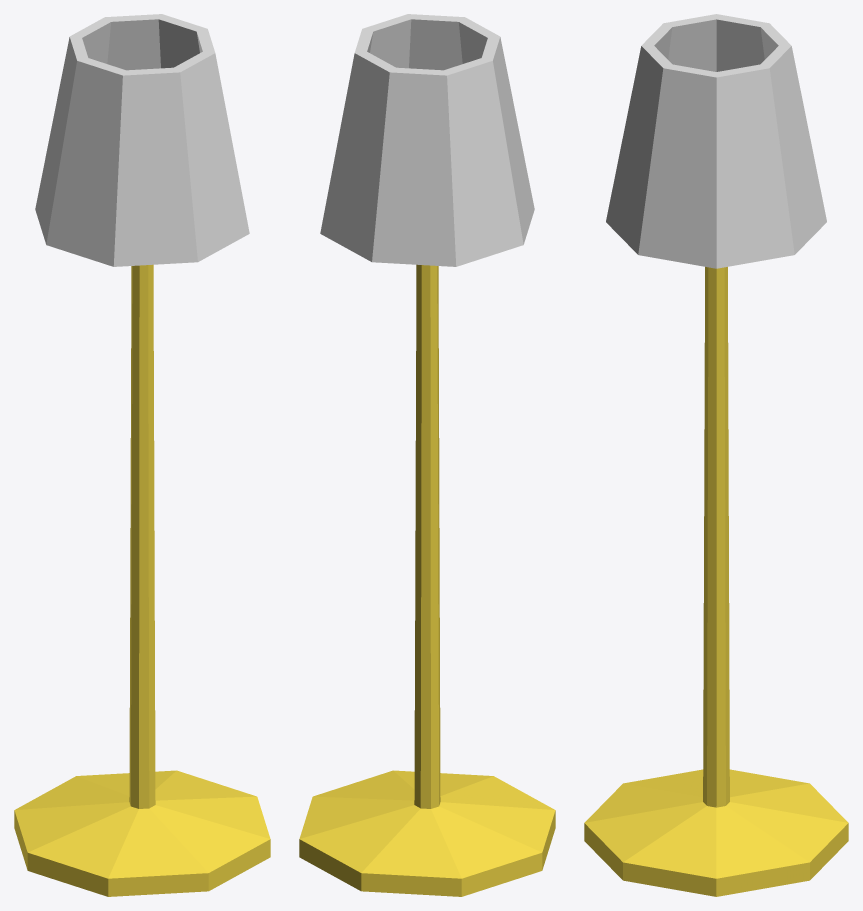
The model's file is FloorLamp.fbx.
3 renders of one model, left to right at view 1: azimuth 30°, elevation 25°; view 2: azimuth 150°, elevation 25°; view 3: azimuth 270°, elevation 25°, orthographic.
Parts seen in each view (by area): view 1: Cylinder; view 2: Cylinder; view 3: Cylinder.
Part boxes in pixels (box(x1,y1,x2,y2)): Cylinder: box(14, 14, 270, 896); Cylinder: box(299, 14, 555, 896); Cylinder: box(584, 14, 848, 896).
Size of the model in its own units: 168 by 557 by 168.
